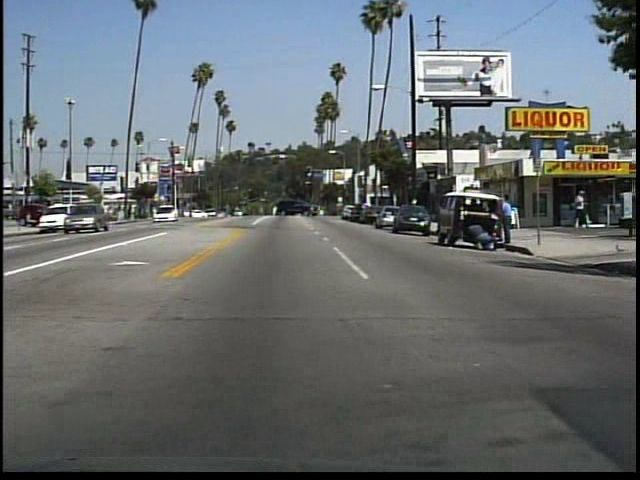person: (497, 193, 516, 245), (467, 220, 494, 254), (573, 187, 589, 232)
